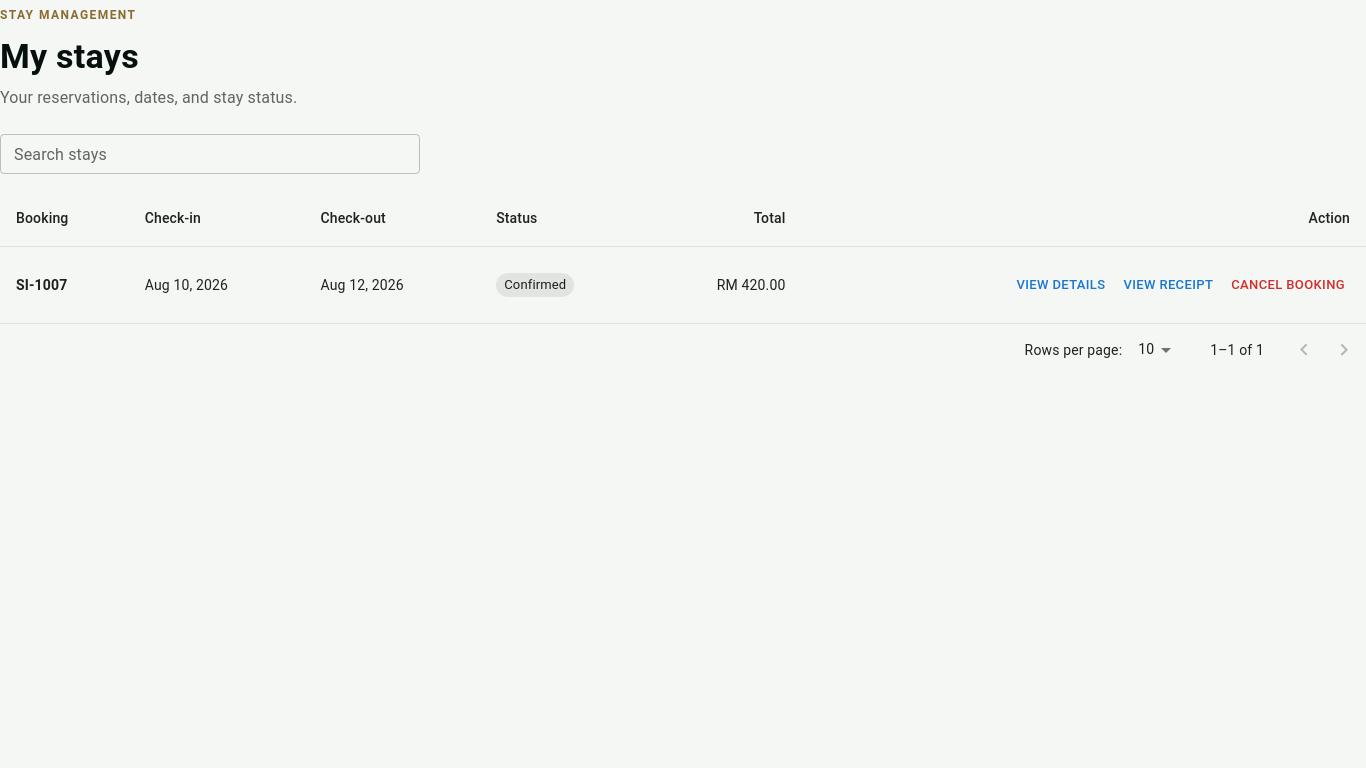
BookingsSection cancellation › uses cancellation copy when an unpaid booking is cancelled
Click the button "Cancel booking": coordinates (1288, 285) [1226,263,1350,307]
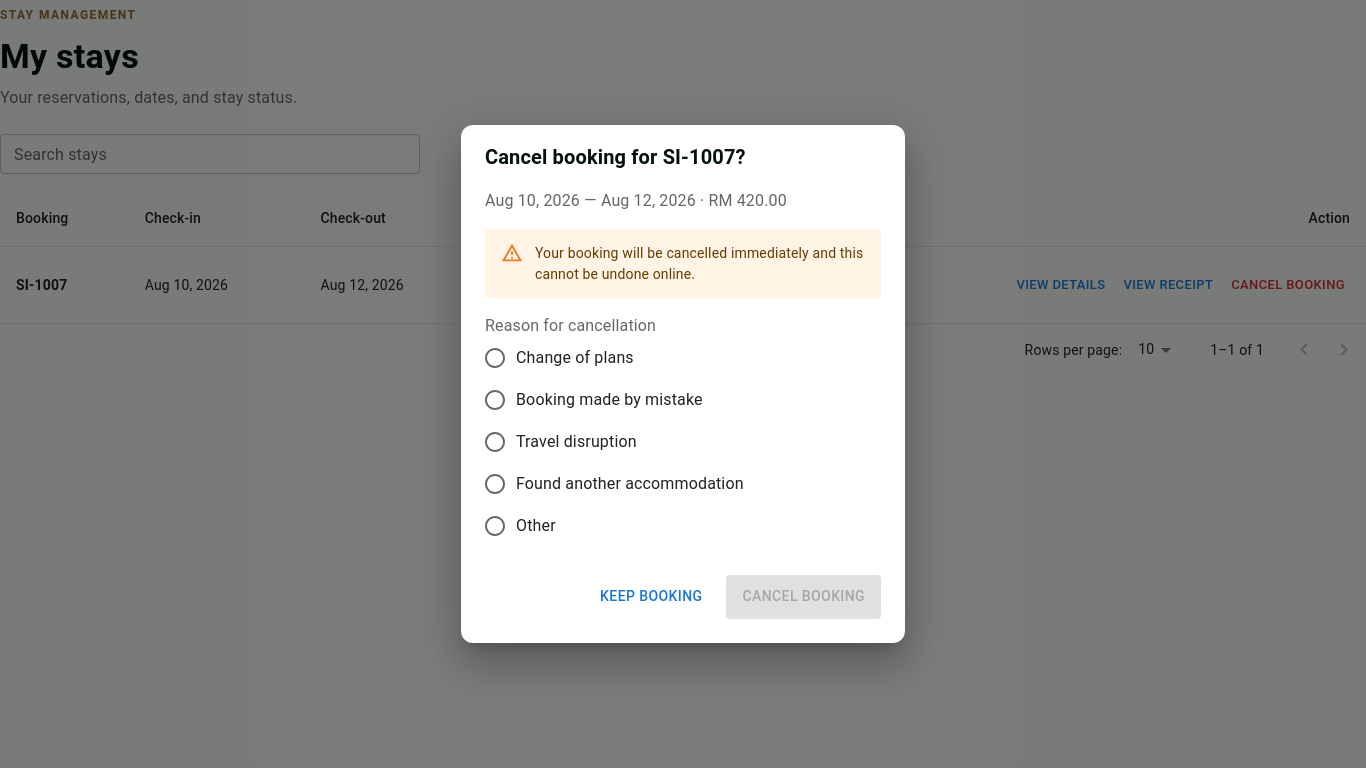
expect the heading "Cancel booking for SI-1007?" is shown: met, box [485,146,746,170]
Click the radio button labelled "Other": coordinates (519, 526) [483,514,556,538]
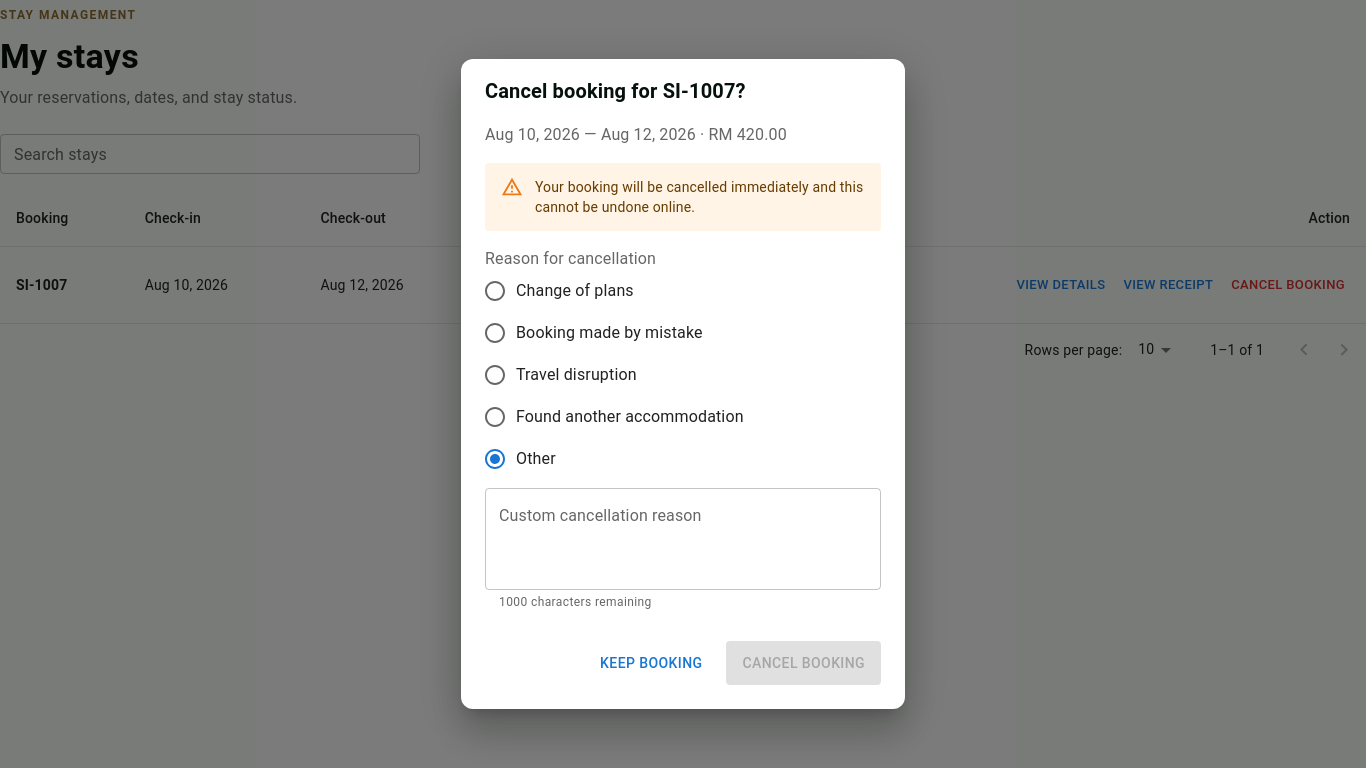
In the text box labelled "Custom cancellation reason": coordinates (683, 539) [499,505,867,574], type "Plans changed"
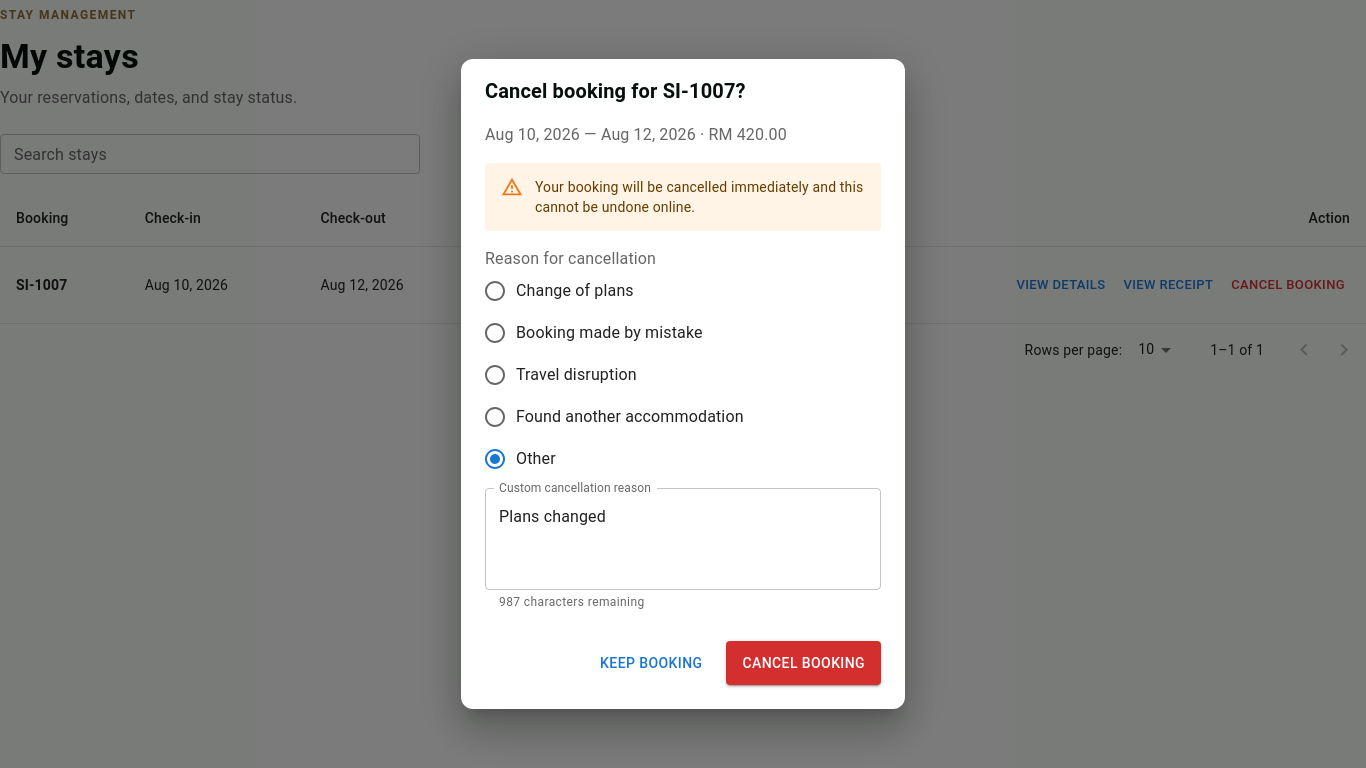
Click the button "Cancel booking": coordinates (804, 663) [726,641,881,685]
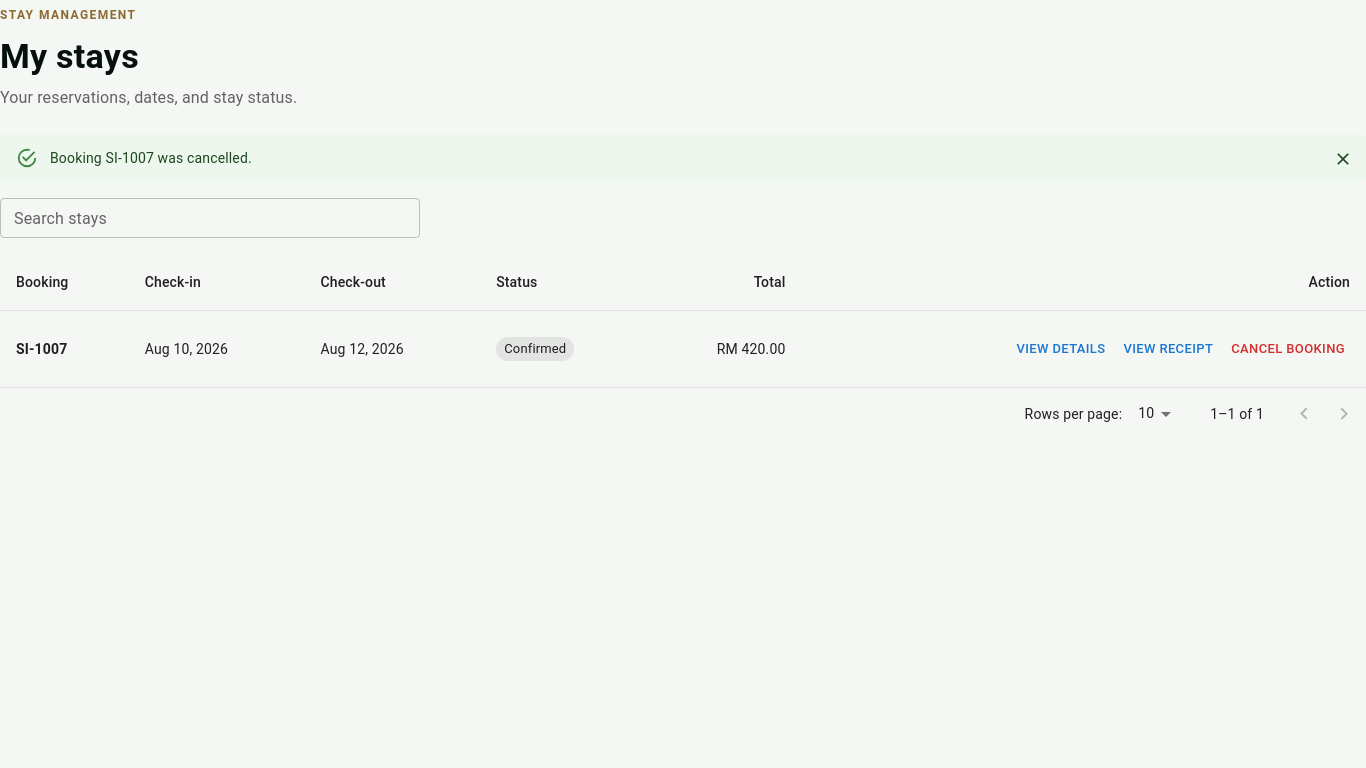
expect the dialog is gone: met
expect the text "Booking SI-1007 was cancelled." is shown: met, box [50,150,252,166]
